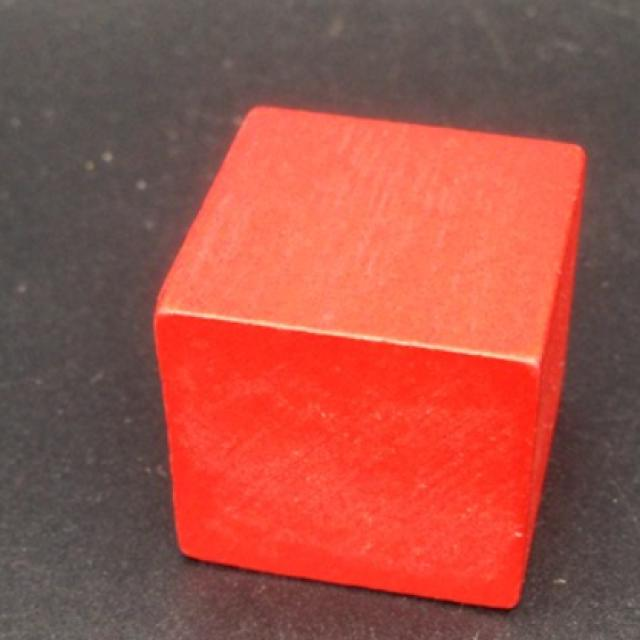red cube: (152, 106, 588, 612)
